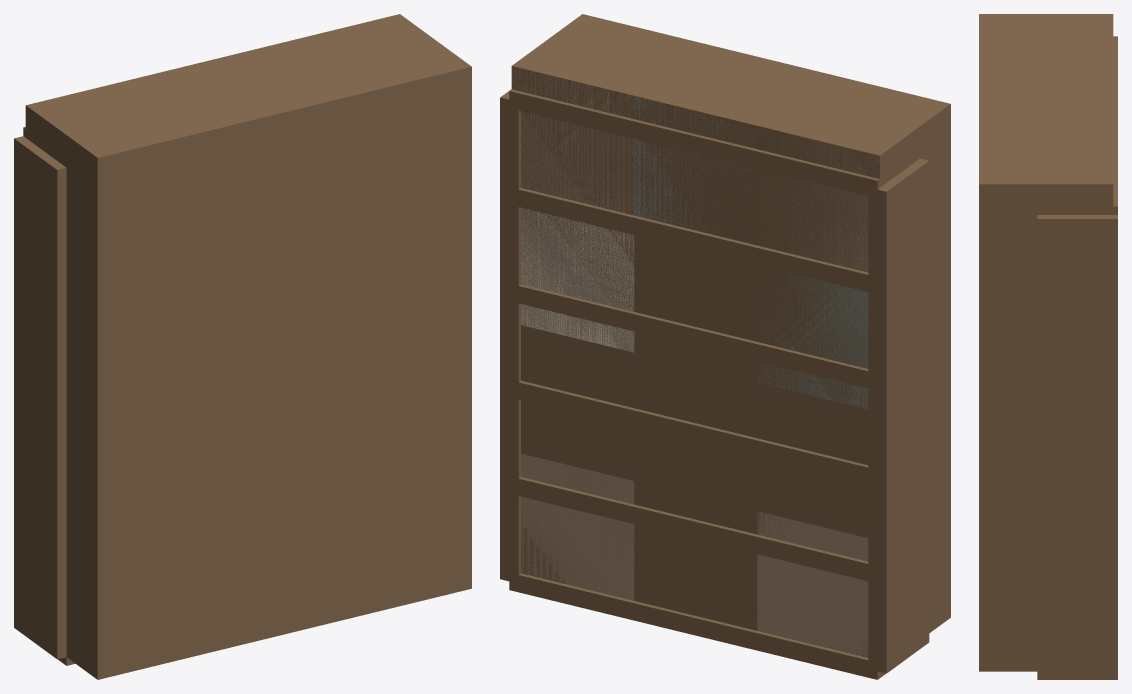
The picture shows the model from 3 angles, left to right: view 1: azimuth 30°, elevation 25°; view 2: azimuth 150°, elevation 25°; view 3: azimuth 270°, elevation 25°; orthographic projection. The views are drawn at different scales.
Visible parts, largest first — view 1: object 3, Cube; view 2: object 3, object 10, Cube, Cube.001, Cube.008, Cube.006, Cube.007, Cube.003, Cube.004, Cube.005; view 3: object 3, Cube.001, Cube.008, Cube.003.
Part boxes in pixels (box(x1,y1,x2,y2)): object 3: box(25, 14, 471, 679); Cube: box(14, 136, 66, 659); object 3: box(511, 14, 950, 657); object 10: box(511, 66, 879, 657); Cube: box(868, 158, 929, 673); Cube.001: box(500, 90, 520, 583); Cube.008: box(509, 89, 879, 197); Cube.006: box(509, 284, 877, 390); Cube.007: box(509, 187, 877, 293); Cube.003: box(509, 573, 885, 679); Cube.004: box(509, 477, 877, 583); Cube.005: box(515, 380, 877, 486); object 3: box(979, 14, 1113, 671); Cube.001: box(1037, 215, 1117, 675); Cube.008: box(1037, 36, 1117, 214); Cube.003: box(1037, 676, 1117, 679).
Size of the model in its own units: 2.1 by 2.71 by 0.6889.
